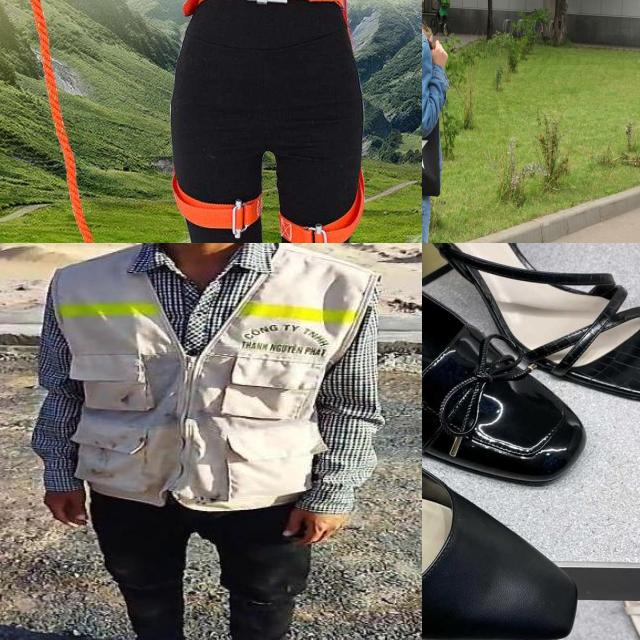Harness: (175, 0, 361, 243)
Sandals: (422, 301, 629, 640), (422, 243, 609, 490), (422, 243, 640, 426)
hand_noglove: (275, 487, 356, 550), (33, 482, 100, 535)
person: (19, 243, 377, 640)
